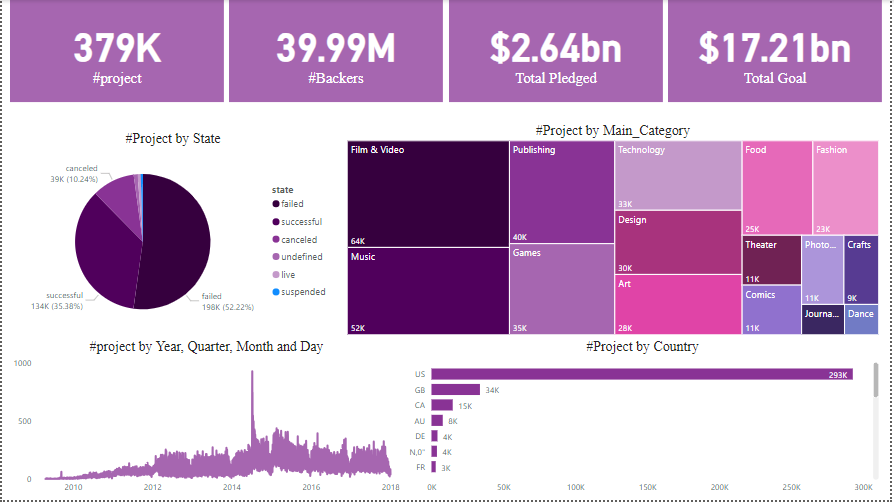

The page's visual inventory and layout, read from the dashboard file:
{"tool":"powerbi","page":{"name":"Overview","canvas":[1280,720],"ordinal":0},"visuals":[{"type":"card","fields":{"Values":["AllDate.#project"]},"box":[11.5,0,308.2,146.9],"z":0},{"type":"card","fields":{"Values":["AllDate.#total pledged"]},"box":[643.2,0,308.2,146.9],"z":1000},{"type":"card","fields":{"Values":["AllDate.total goal"]},"box":[959,0,308.2,146.9],"z":2000},{"type":"card","fields":{"Values":["AllDate.#backers"]},"box":[327.4,0,308.2,146.9],"z":3000},{"type":"pieChart","title":"#Project by State","fields":{"Category":["AllDate.state"],"Y":["AllDate.#project"]},"box":[11.5,187.2,469.4,299.5],"z":4000},{"type":"treemap","title":"#Project by Main_Category","fields":{"Values":["AllDate.#project"],"Group":["AllDate.proj_category Hierarchy.main category","AllDate.proj_category Hierarchy.category","AllDate.proj_category Hierarchy.project"]},"box":[492.5,175.7,774.7,311],"z":5000},{"type":"lineChart","fields":{"Category":["AllDate.launched.Variation.Date Hierarchy.Year","AllDate.launched.Variation.Date Hierarchy.Quarter","AllDate.launched.Variation.Date Hierarchy.Month","AllDate.launched.Variation.Date Hierarchy.Day"],"Y":["AllDate.#project"]},"box":[11.5,486.7,565.9,233.3],"z":5001},{"type":"barChart","title":"#Project by Country","fields":{"Category":["AllDate.country"],"Y":["AllDate.#project"]},"box":[577.4,487,690,233],"z":5002}]}

Visuals, with their boxes in screenshot pixels (x1, y1, x2, y2), scaled from the page's 1280x720 canvas onto the 894x504 screenshot:
card - AllDate.#project: {"left": 8, "top": 0, "right": 223, "bottom": 103}
card - AllDate.#total pledged: {"left": 449, "top": 0, "right": 664, "bottom": 103}
card - AllDate.total goal: {"left": 670, "top": 0, "right": 885, "bottom": 103}
card - AllDate.#backers: {"left": 229, "top": 0, "right": 444, "bottom": 103}
"#Project by State" pieChart: {"left": 8, "top": 131, "right": 336, "bottom": 341}
"#Project by Main_Category" treemap: {"left": 344, "top": 123, "right": 885, "bottom": 341}
lineChart - AllDate.launched.Variation.Date Hierarchy.Year x AllDate.launched.Variation.Date Hierarchy.Quarter: {"left": 8, "top": 341, "right": 403, "bottom": 503}
"#Project by Country" barChart: {"left": 403, "top": 341, "right": 885, "bottom": 503}
